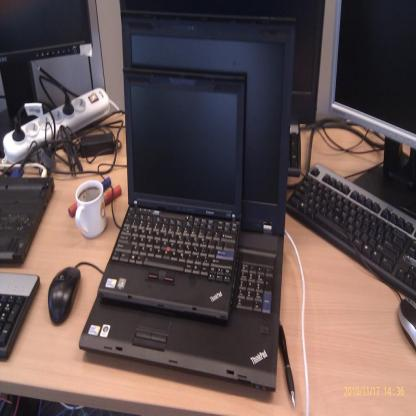board: (79, 11, 298, 393), (97, 69, 246, 322)
